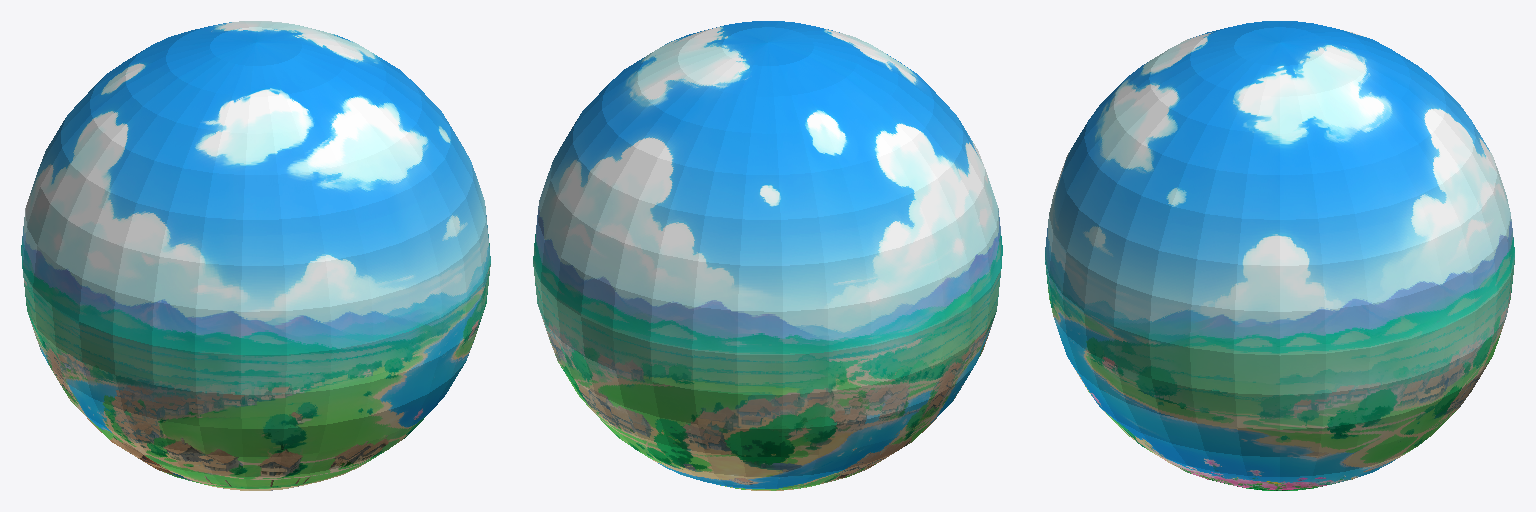
The picture shows the model from 3 angles: view 1: azimuth 30°, elevation 25°; view 2: azimuth 150°, elevation 25°; view 3: azimuth 270°, elevation 25°; orthographic projection.
Visible parts, largest first — view 1: 球; view 2: 球; view 3: 球.
Part boxes in pixels (x1,y1,x2,y2): 球: (21,21,490,490); 球: (533,21,1002,490); 球: (1045,21,1514,490).
Bounding box in the file's own units: 2 × 2 × 2.
1 materials, 1 textured.